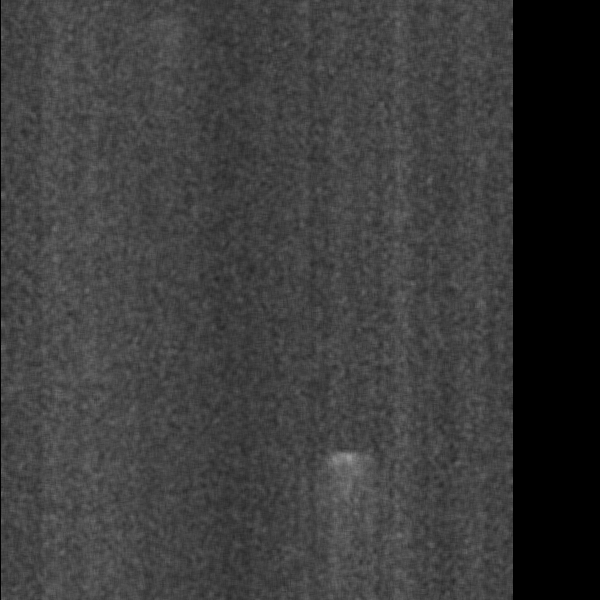spark: (80, 177, 176, 243), (8, 506, 112, 553), (184, 515, 211, 566), (287, 481, 317, 524), (195, 413, 224, 455), (1, 79, 22, 120), (3, 356, 32, 383), (199, 580, 221, 600)
